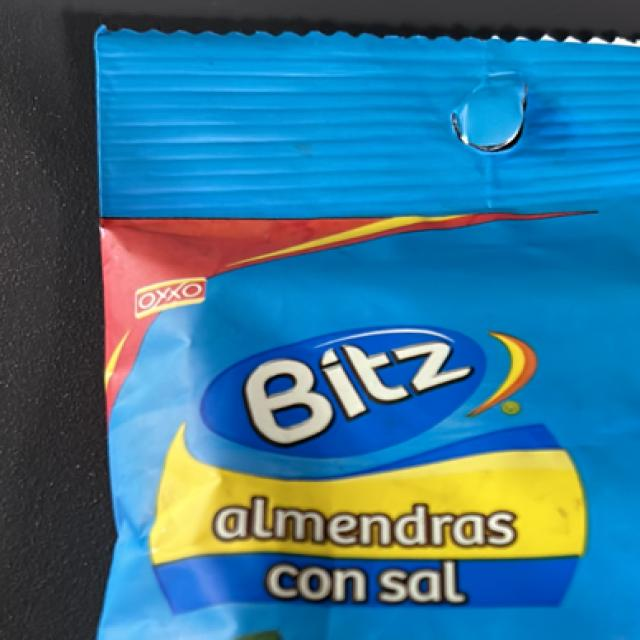bitzAlmendras: (96, 24, 640, 640)
